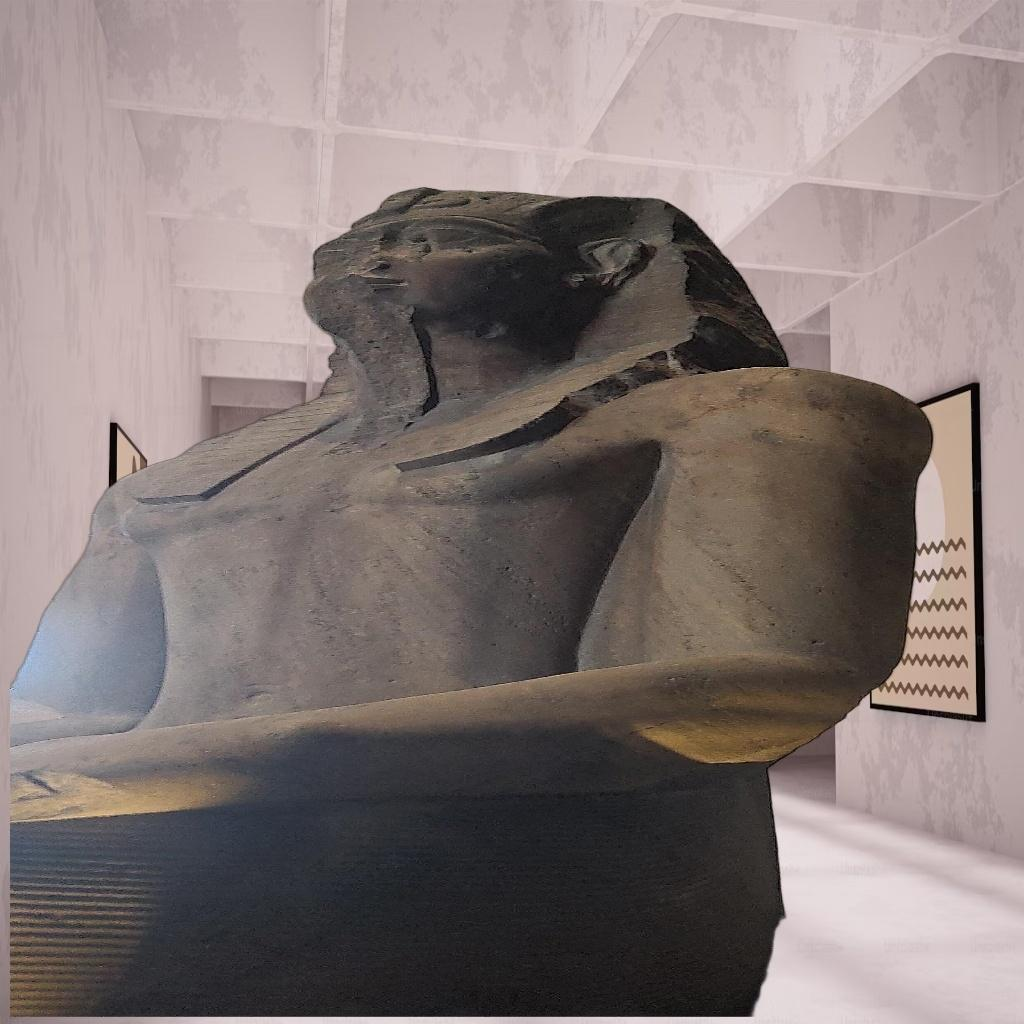Colossal Statue of Middle Kingdom King: (11, 182, 964, 1016)
